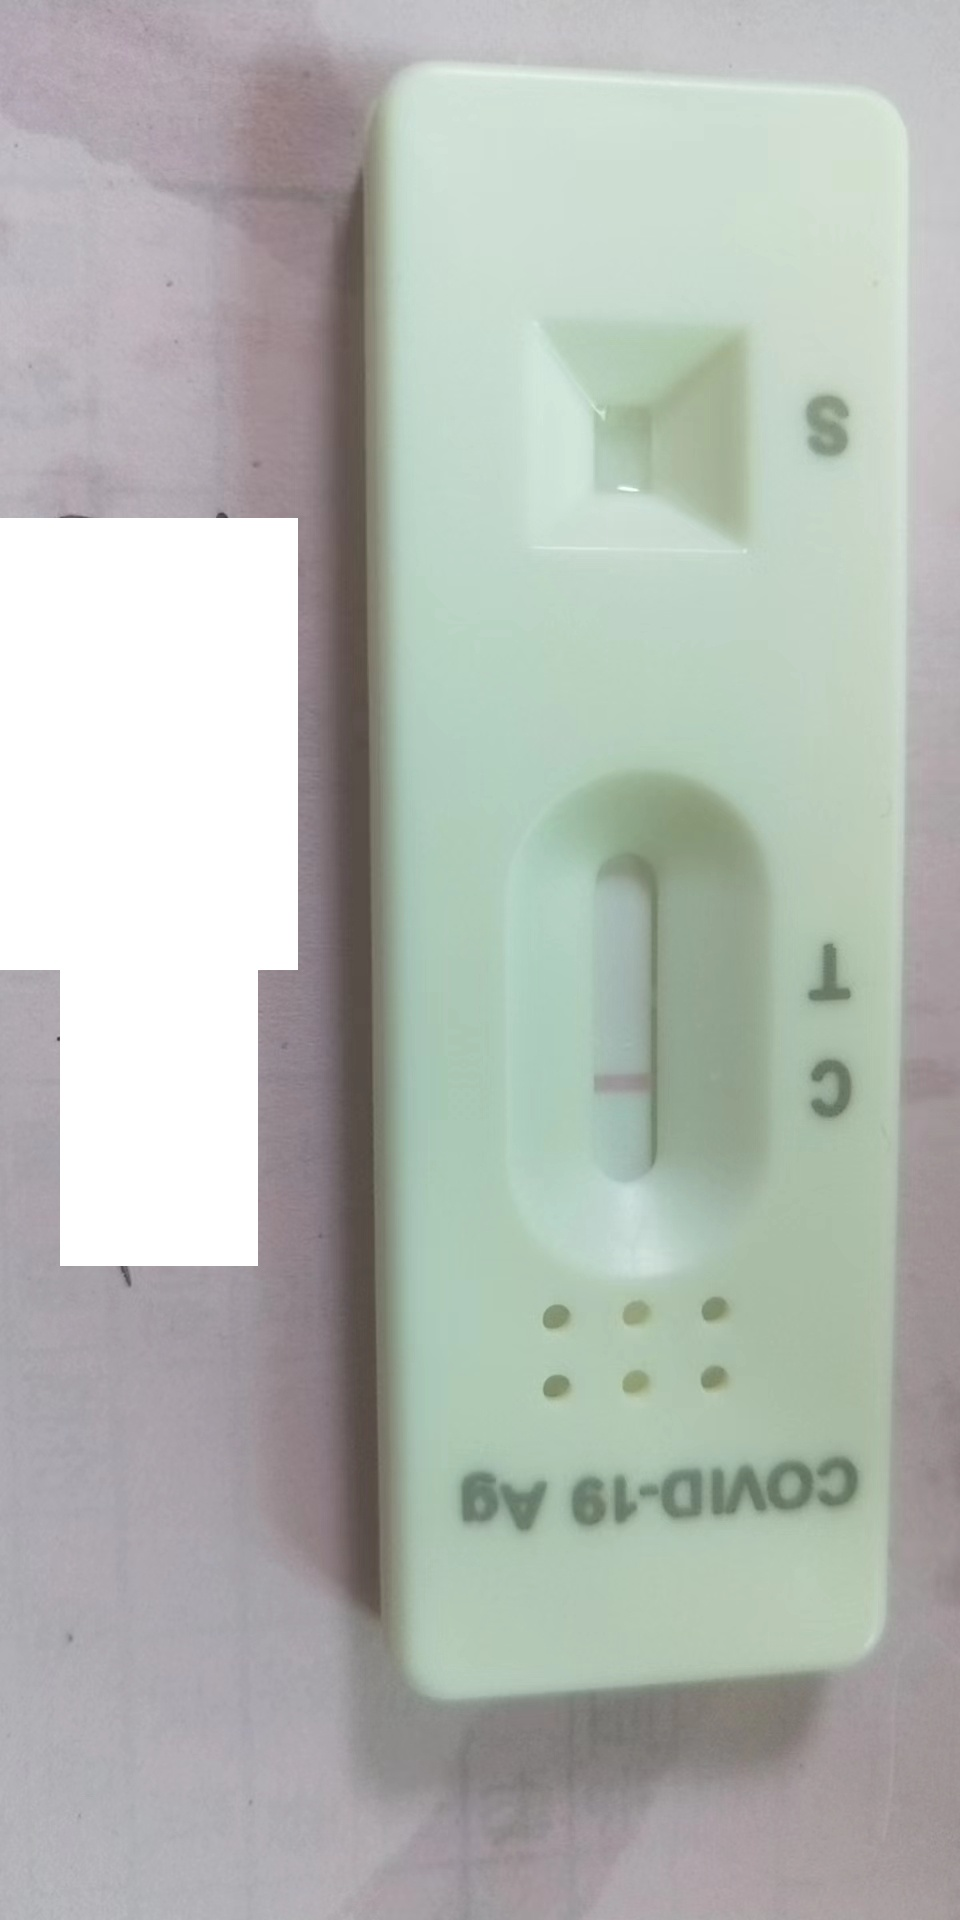negative: (571, 813, 694, 1216)
